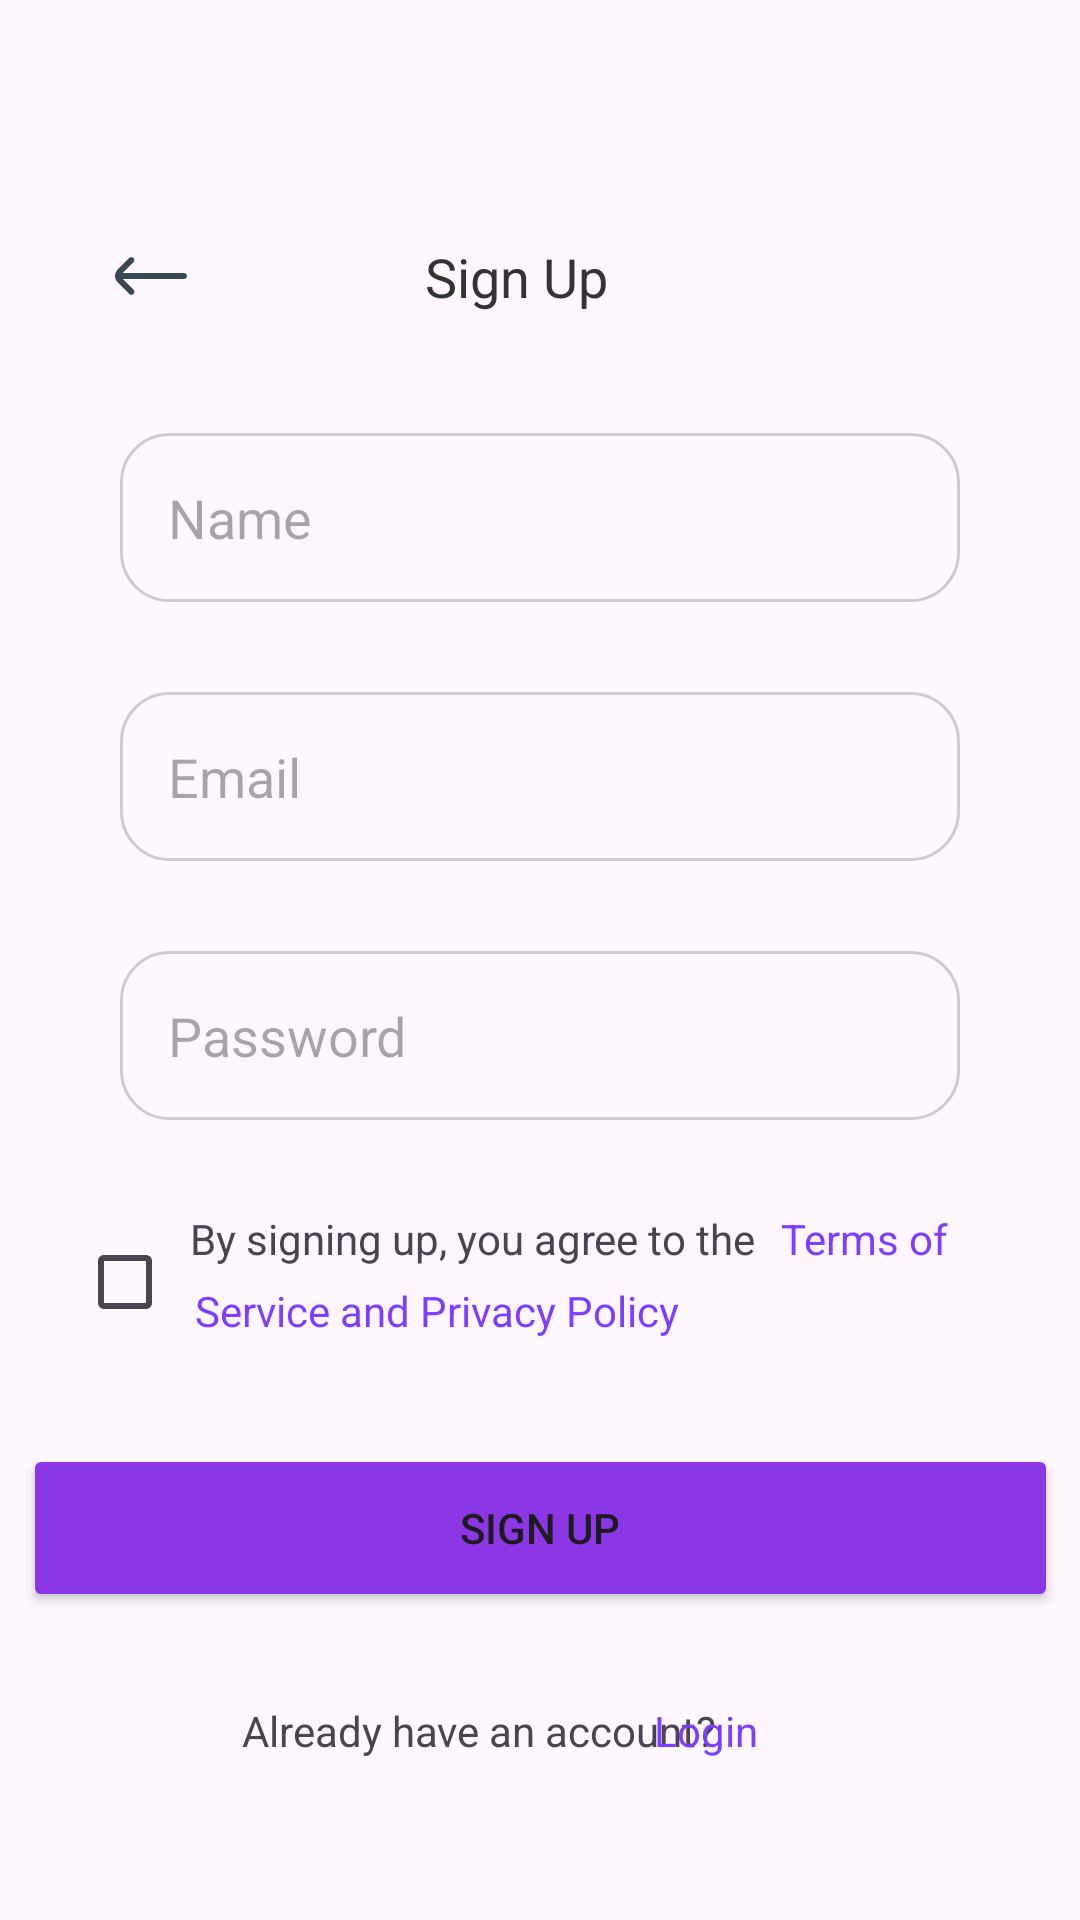

Screen size 1080 x 1920. Icon name, then its box in pixels as Rect(x1, y1, x2, y2):
arrow left: Rect(115, 257, 187, 295)
